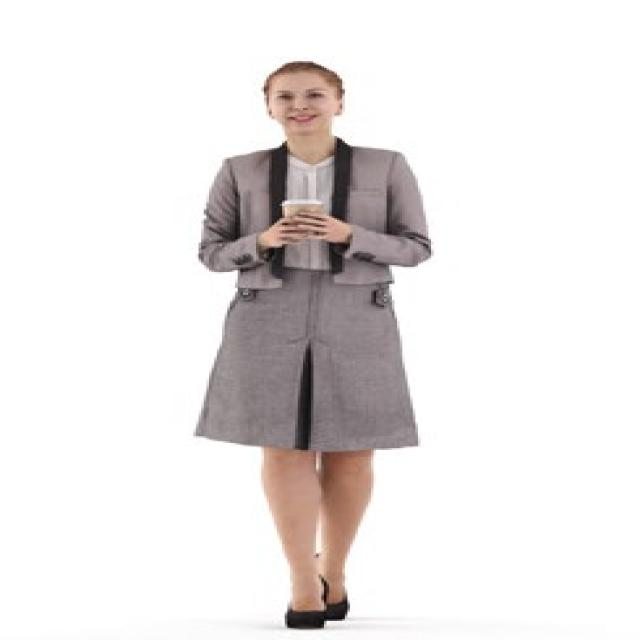standing: (185, 59, 436, 628)
